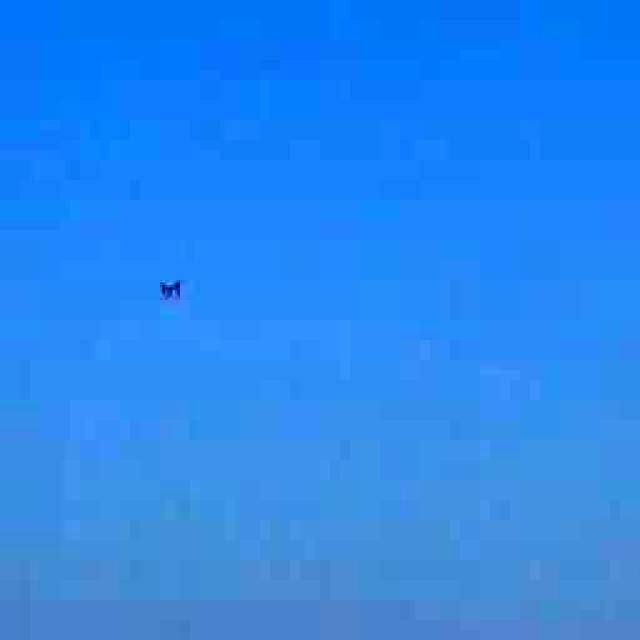bird: (140, 256, 198, 319)
